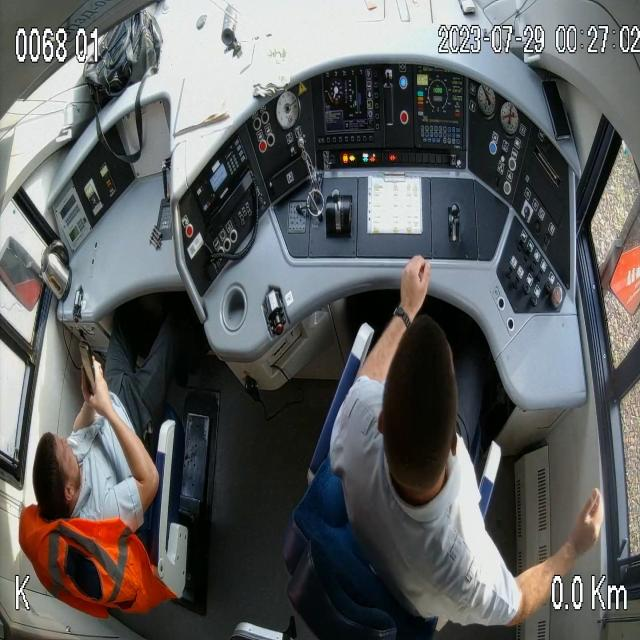smartphone: (76, 337, 110, 424)
